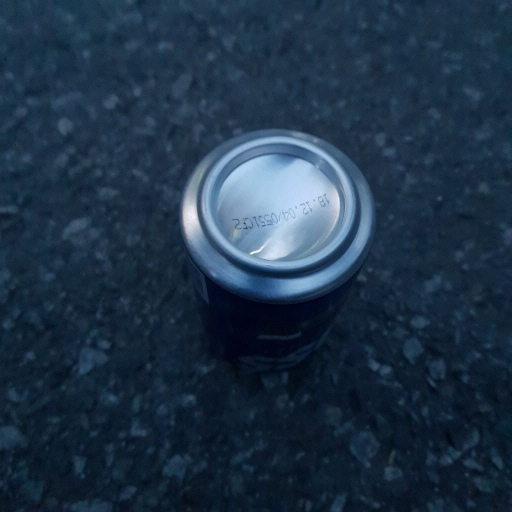Metal_0: (177, 126, 378, 377)
